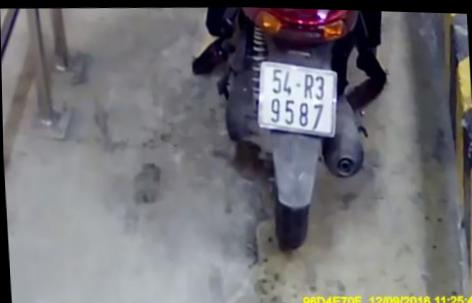LP: (247, 49, 346, 148)
